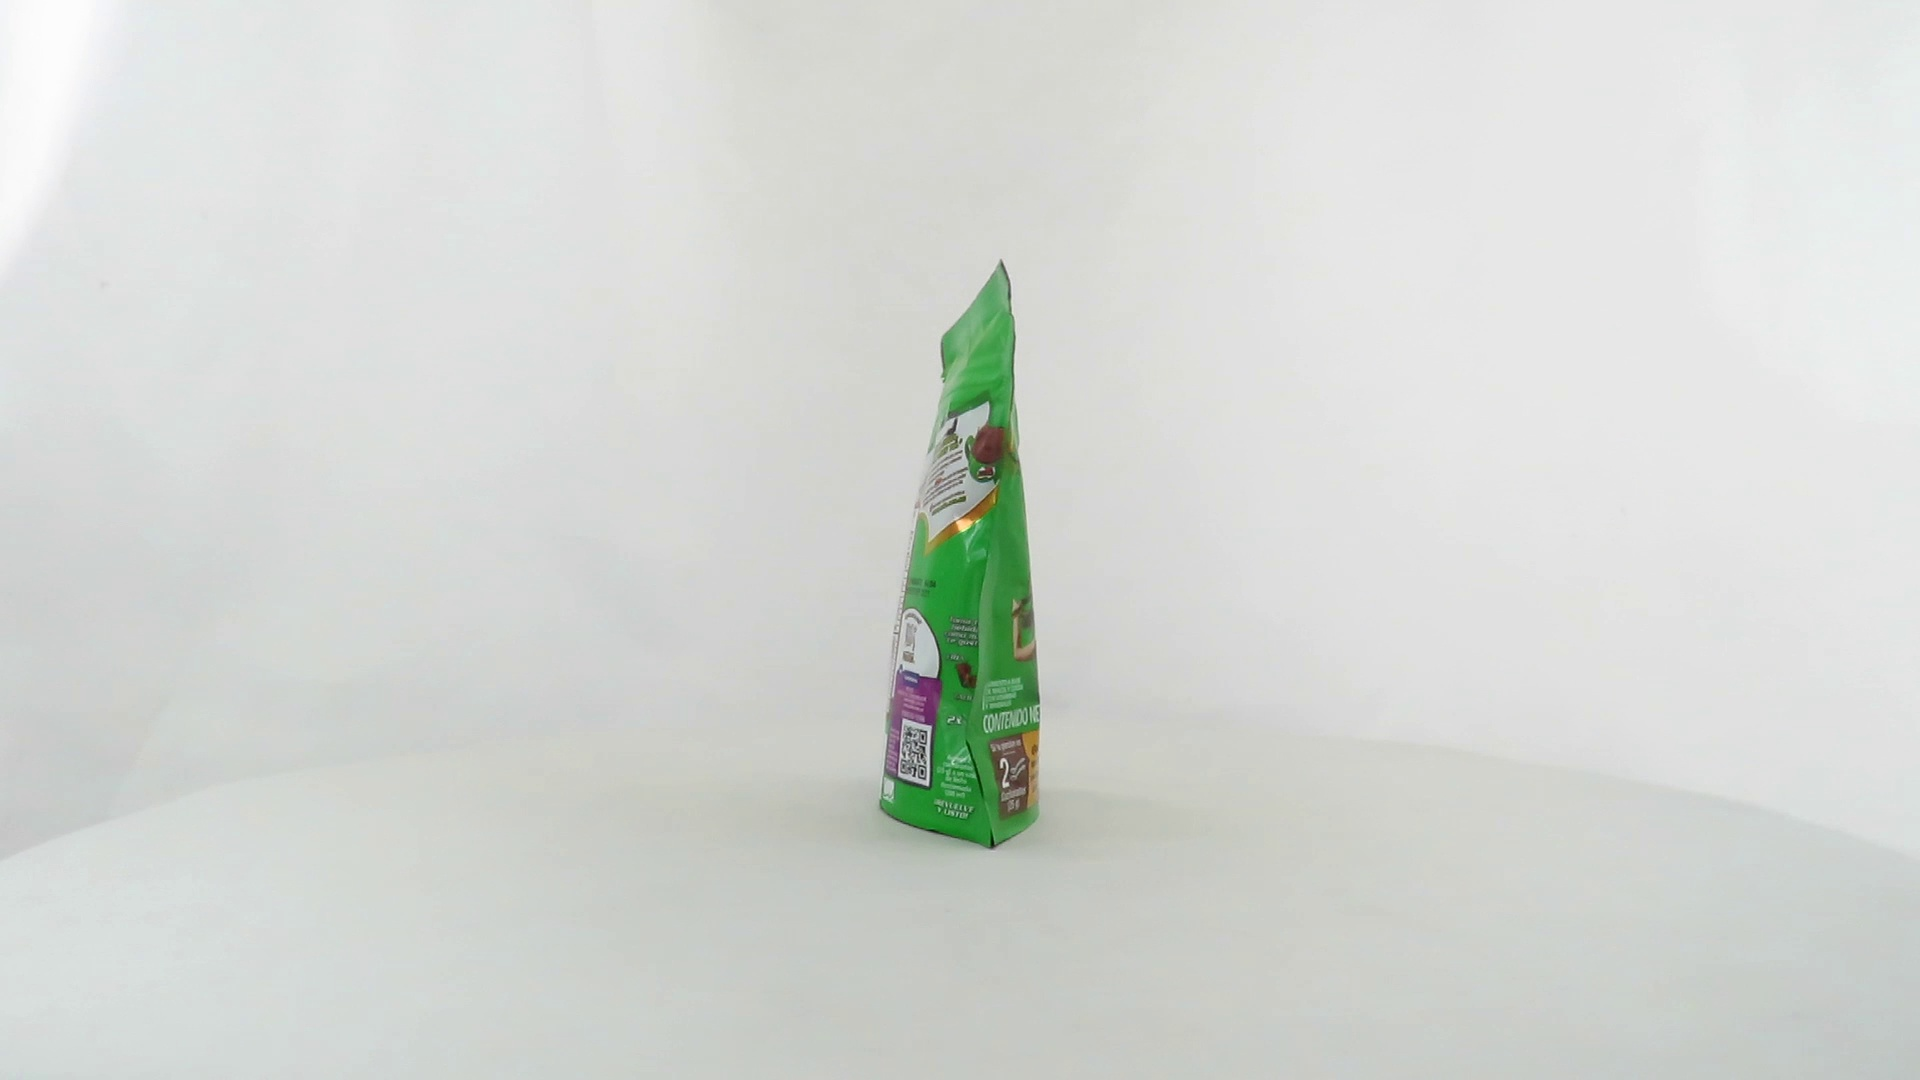COL0170203DYP10000: (874, 255, 1047, 856)
